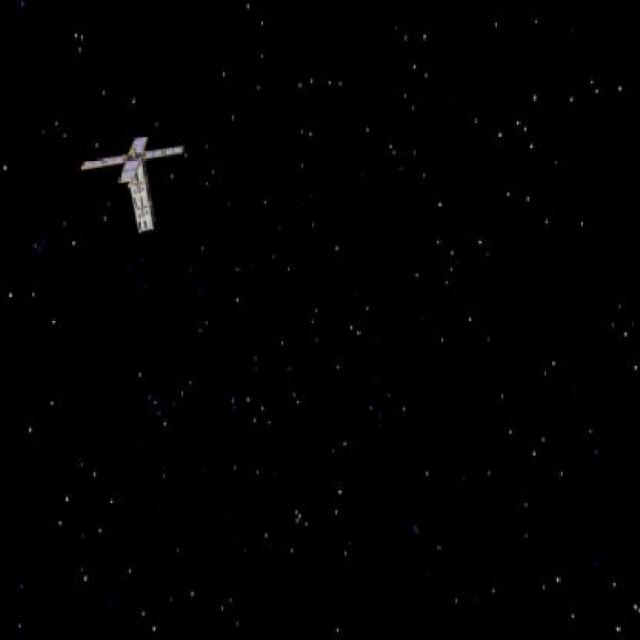satellite: (83, 131, 198, 242)
